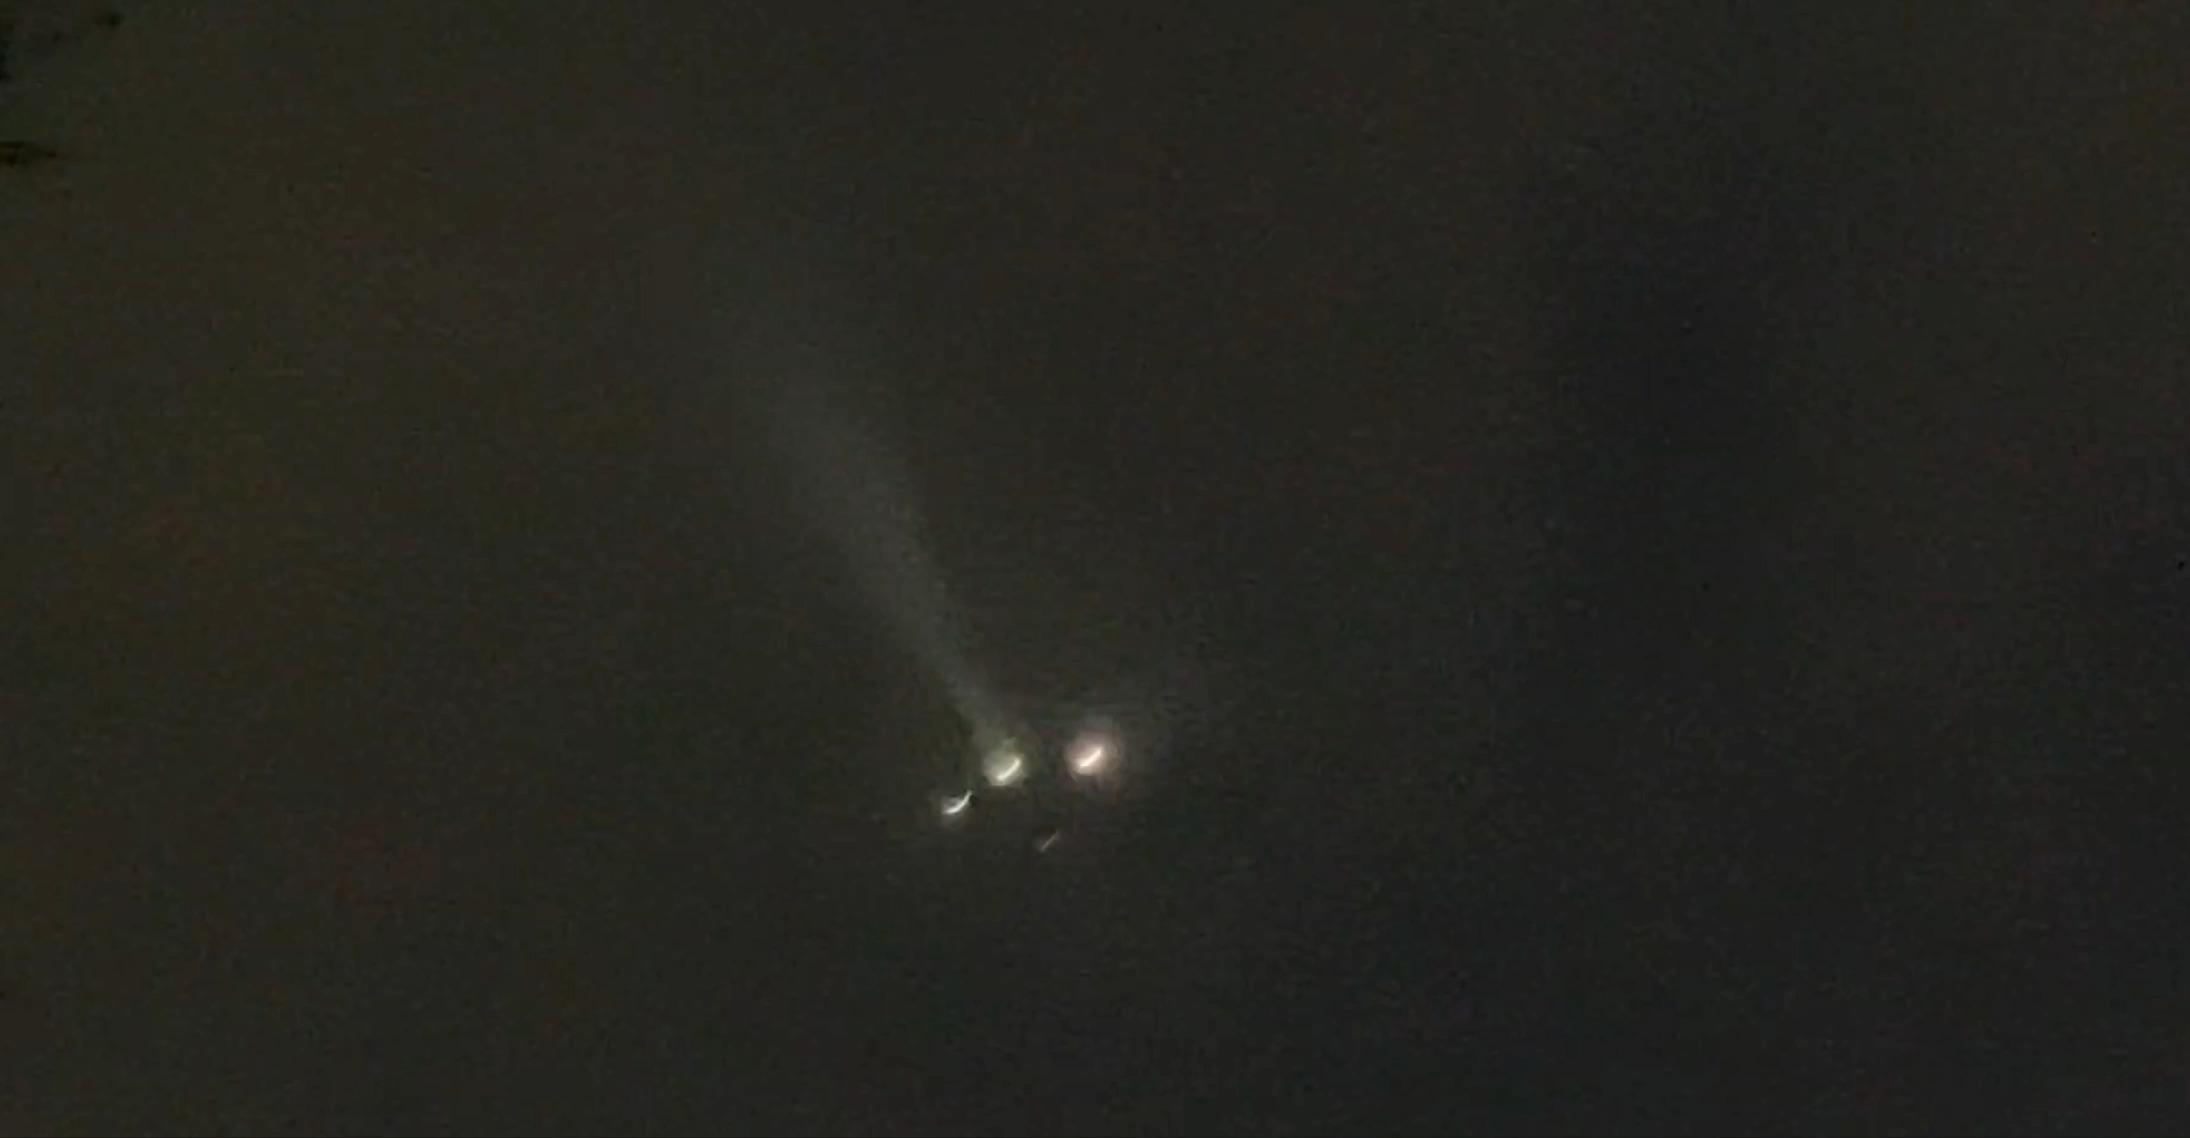Plane: (818, 652, 1243, 877)
